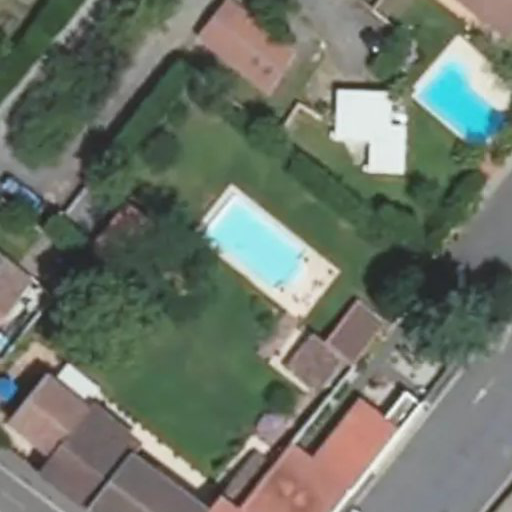pool: (199, 232, 324, 262)
